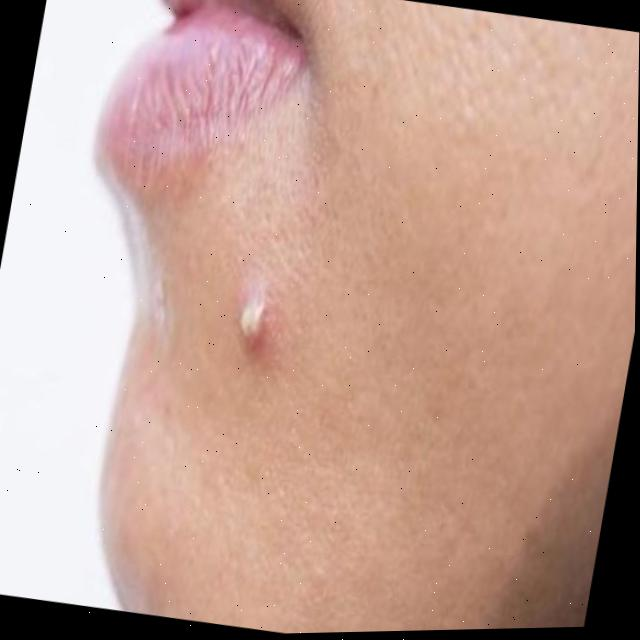Acne: (219, 280, 282, 346)
